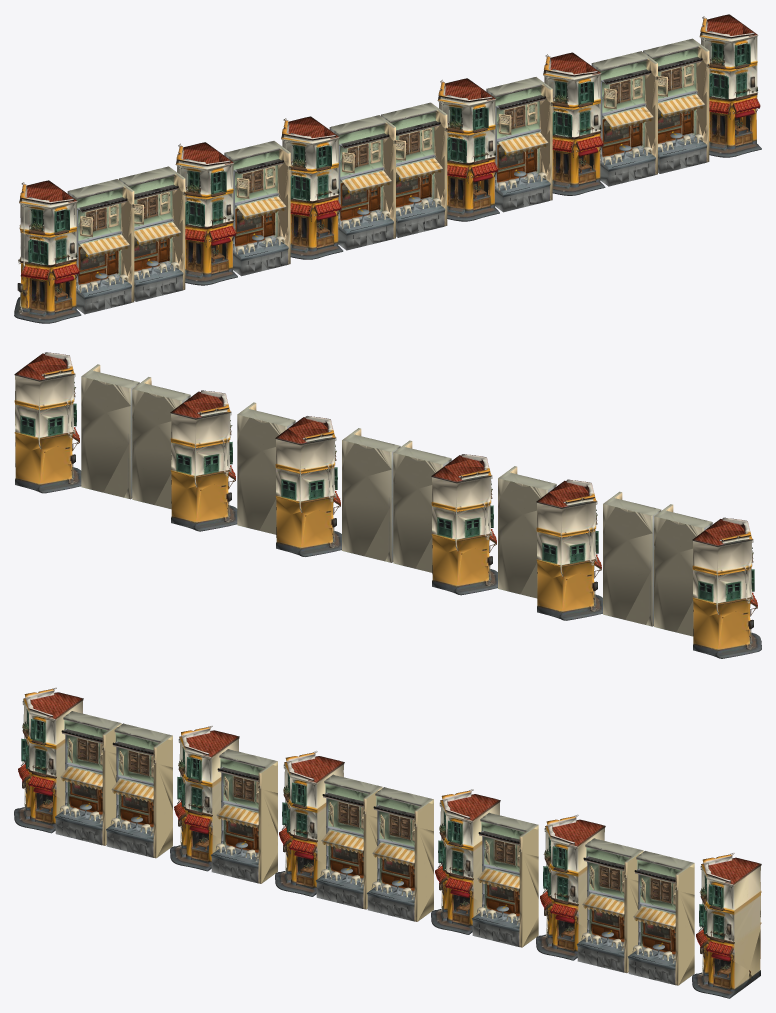
Rendered from shops.glb.
3 renders of one model, top to bottom at view 1: azimuth 30°, elevation 25°; view 2: azimuth 150°, elevation 25°; view 3: azimuth 330°, elevation 25°, orthographic.
Parts seen in each view (by area): view 1: shop_0, shop_1, shop_9, shop_4, shop_11, shop_6, shop_5, shop_10, shop_3, shop_8, shop_13, shop_7 (+2 smaller); view 2: shop_0, shop_13, shop_10, shop_5, shop_8, shop_3, shop_12, shop_7, shop_2, shop_11, shop_6, shop_4 (+2 smaller); view 3: shop_13, shop_2, shop_9, shop_12, shop_4, shop_7, shop_1, shop_11, shop_6, shop_10, shop_5, shop_0 (+2 smaller).
Boxes of the visible parts, <box> form: shop_0: <box>14,180,81,323</box>; shop_1: <box>67,179,134,314</box>; shop_9: <box>486,77,552,212</box>; shop_4: <box>224,141,290,276</box>; shop_11: <box>591,51,658,186</box>; shop_6: <box>329,115,396,250</box>; shop_5: <box>281,116,343,259</box>; shop_10: <box>543,52,605,195</box>; shop_3: <box>175,142,237,285</box>; shop_8: <box>437,78,499,221</box>; shop_13: <box>699,14,761,157</box>; shop_7: <box>381,102,447,237</box>; shop_0: <box>692,517,761,658</box>; shop_13: <box>14,352,81,493</box>; shop_10: <box>170,390,237,531</box>; shop_5: <box>431,454,497,595</box>; shop_8: <box>275,416,341,556</box>; shop_3: <box>536,479,602,620</box>; shop_12: <box>81,364,139,499</box>; shop_7: <box>342,428,400,562</box>; shop_2: <box>603,491,661,626</box>; shop_11: <box>132,377,190,509</box>; shop_6: <box>393,440,451,572</box>; shop_4: <box>498,466,556,598</box>; shop_13: <box>692,853,761,998</box>; shop_2: <box>106,723,172,858</box>; shop_9: <box>472,812,538,947</box>; shop_12: <box>628,851,694,985</box>; shop_4: <box>211,749,277,883</box>; shop_7: <box>367,787,433,921</box>; shop_1: <box>55,711,121,845</box>; shop_11: <box>577,838,643,973</box>; shop_6: <box>316,774,382,909</box>; shop_10: <box>536,814,605,960</box>; shop_5: <box>275,751,344,896</box>; shop_0: <box>14,687,83,833</box>.
Bounding box in the file's own units: 55.51 × 8.5 × 4.42.
Materials: 2 (2 with a texture image).
